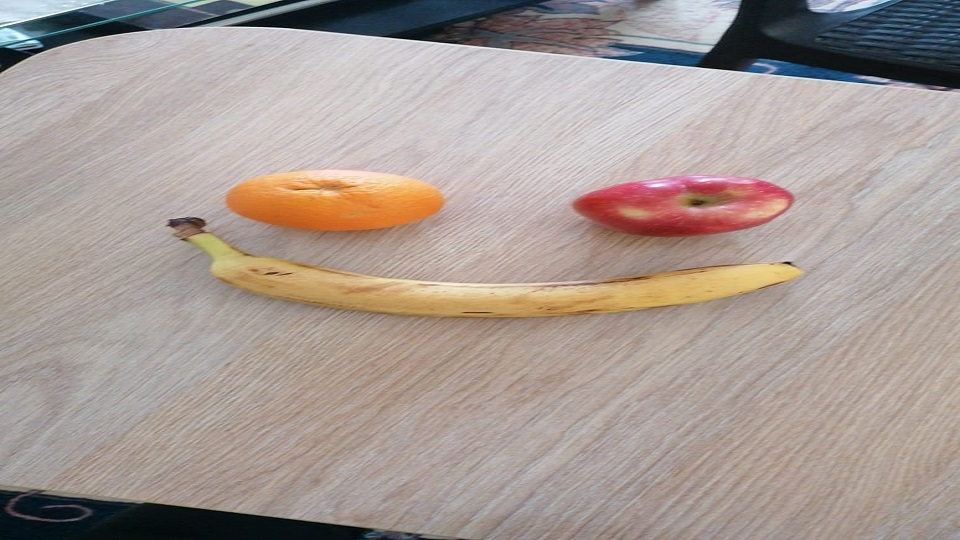elma: (570, 175, 795, 237)
muz: (169, 233, 804, 318)
portakal: (224, 169, 445, 231)
